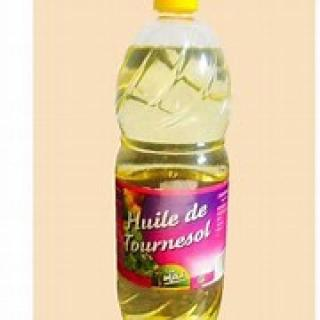Plastic-bottle: (106, 1, 238, 320)
